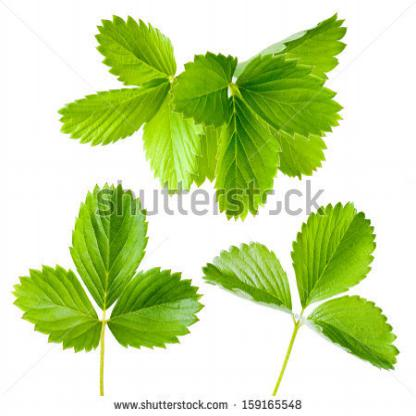strawberry leaf: (63, 174, 156, 309), (291, 195, 375, 301), (238, 53, 343, 137), (106, 266, 202, 355), (13, 258, 99, 355), (56, 83, 169, 148), (138, 92, 205, 198), (310, 286, 395, 363), (202, 244, 291, 317), (93, 14, 173, 92), (214, 115, 276, 212), (164, 54, 236, 122)
